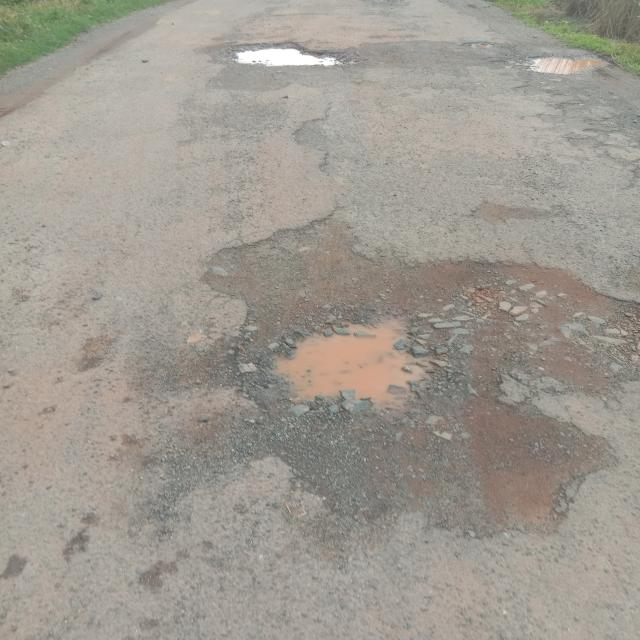potholes: (221, 233, 631, 520), (453, 38, 623, 80), (233, 38, 357, 71)
